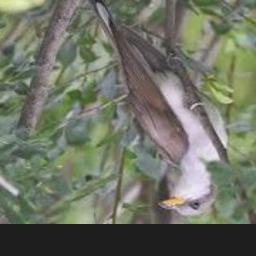Cuckoo: (91, 0, 226, 217)
